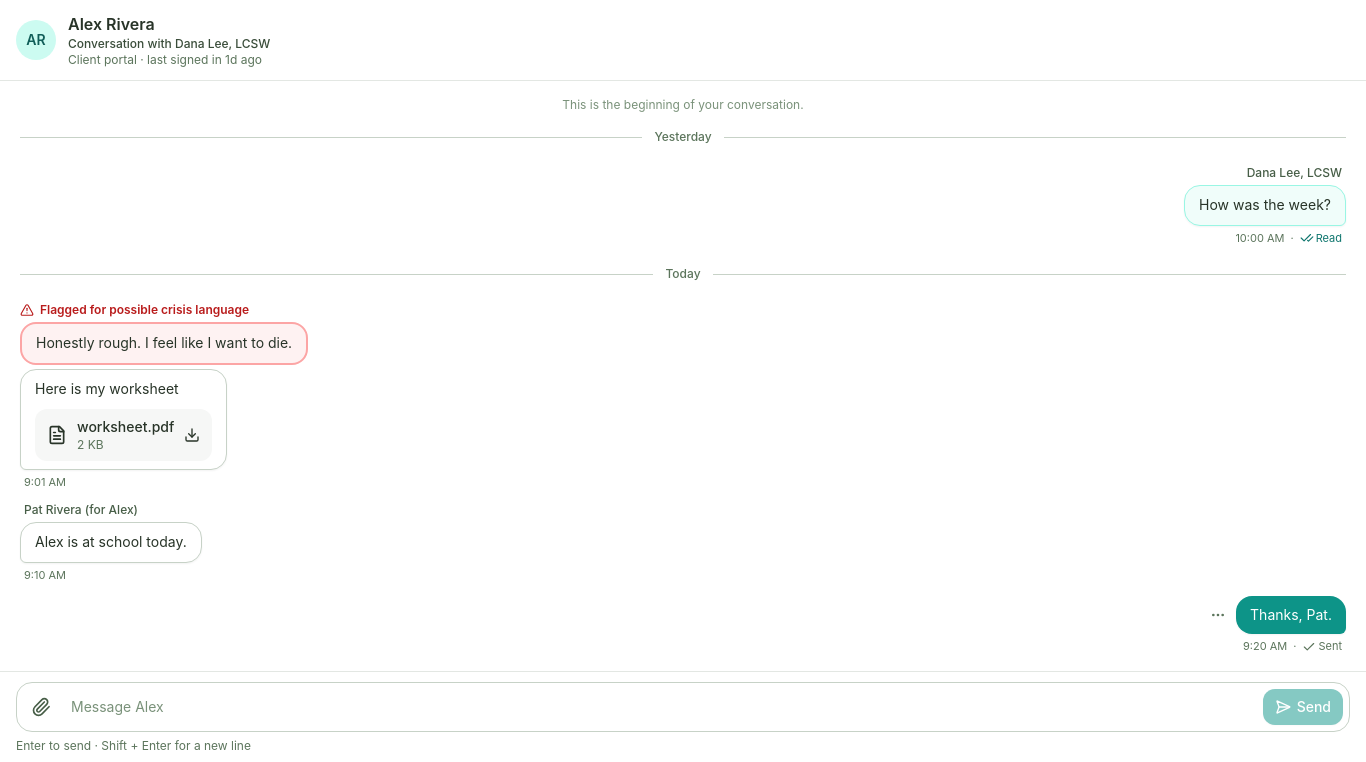
ConversationThread › names everyone in a supervisee's conversation and leaves it unread for its clinician
The width and height of the screenshot is (1366, 762).
Expected: the text "Alex is at school today." is shown, [35,531,187,554]
Expected: the text "Conversation with Dana Lee, LCSW" is shown, [68,36,270,51]
Click the button named "Message options" at (1218,615), box [1204,601,1232,629]
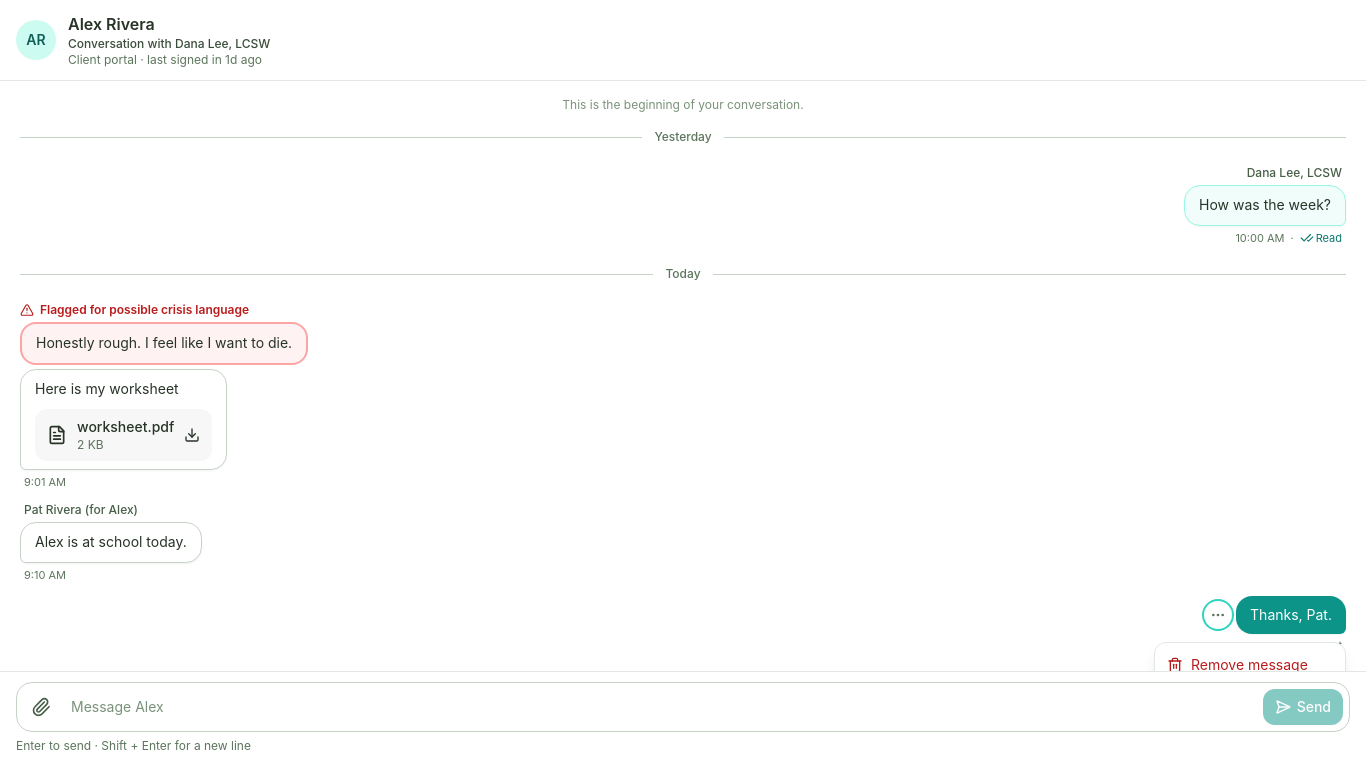
Result: the menu item "Remove message" is shown at [1155,647,1345,671]
